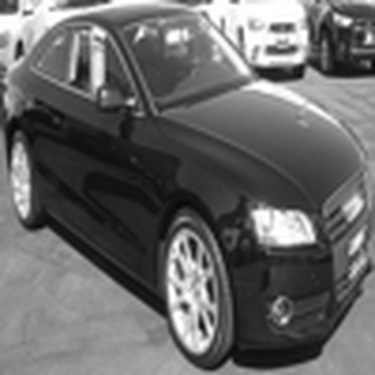car: (1, 4, 371, 371), (7, 1, 114, 62), (302, 1, 374, 78), (237, 10, 310, 77)
